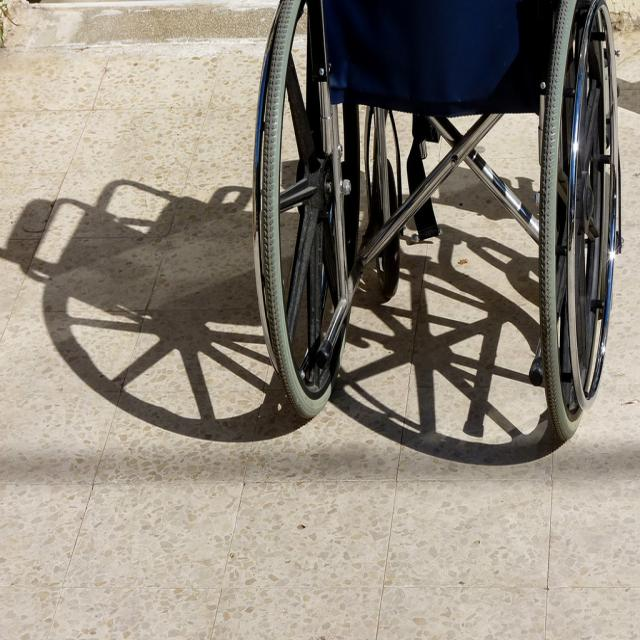wheelchairs: (247, 2, 619, 442)
